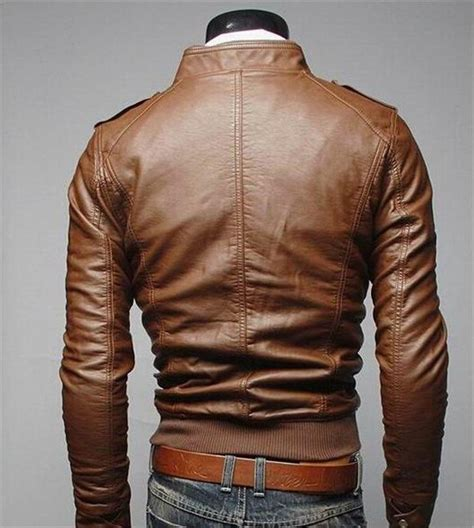cuero: (61, 39, 451, 528)
